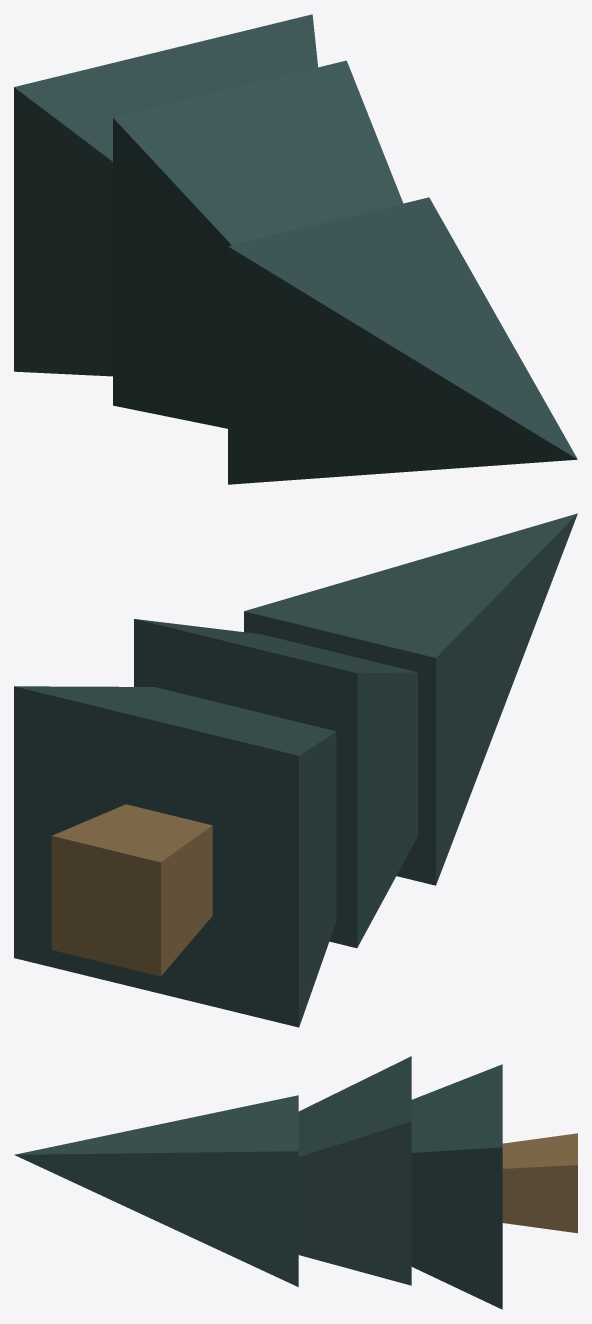
Rendered from Tree.obj.
3 views of the same model, one above another, from view 1: azimuth 30°, elevation 25°; view 2: azimuth 150°, elevation 25°; view 3: azimuth 270°, elevation 25° (orthographic). The views are drawn at different scales.
Parts seen in each view (by area): view 1: Mesh1_Tree_Model_Mesh1_Tree_Model_Leafs; view 2: Mesh1_Tree_Model_Mesh1_Tree_Model_Leafs, Mesh1_Tree_Model_Mesh1_Tree_Model_Wood; view 3: Mesh1_Tree_Model_Mesh1_Tree_Model_Leafs, Mesh1_Tree_Model_Mesh1_Tree_Model_Wood.
Boxes of the visible parts, box(x1,y1,x2,y2) form: Mesh1_Tree_Model_Mesh1_Tree_Model_Leafs: box(14, 14, 577, 484); Mesh1_Tree_Model_Mesh1_Tree_Model_Leafs: box(14, 513, 577, 1027); Mesh1_Tree_Model_Mesh1_Tree_Model_Wood: box(51, 804, 212, 976); Mesh1_Tree_Model_Mesh1_Tree_Model_Leafs: box(14, 1056, 502, 1309); Mesh1_Tree_Model_Mesh1_Tree_Model_Wood: box(502, 1133, 577, 1233).
Size of the model in its own units: 6.44 by 6.35 by 18.45.
